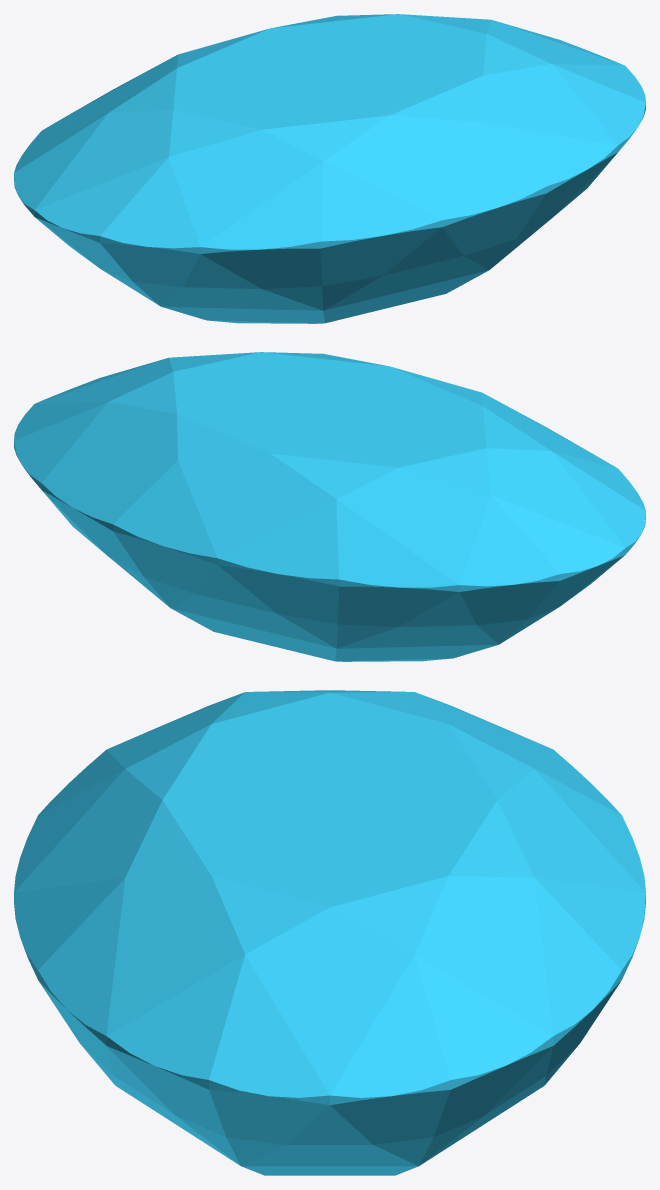
The model's file is oval.glb.
The picture shows the model from 3 angles, top to bottom: view 1: azimuth 30°, elevation 25°; view 2: azimuth 150°, elevation 25°; view 3: azimuth 270°, elevation 25°; orthographic projection. The views are drawn at different scales.
Parts seen in each view (by area): view 1: Object_122; view 2: Object_122; view 3: Object_122.
Part boxes in pixels (x1=…): Object_122: x1=14, y1=14, x2=645, y2=323; Object_122: x1=14, y1=352, x2=645, y2=661; Object_122: x1=14, y1=690, x2=645, y2=1175.
Bounding box in the file's own units: 3.04 × 1.22 × 2.
